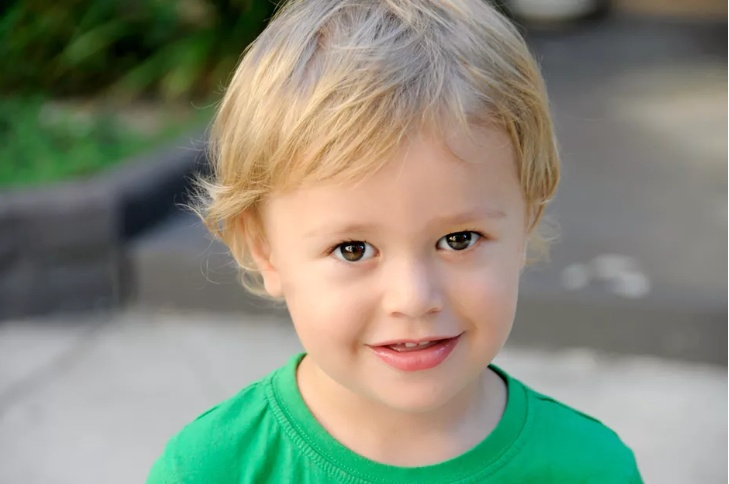face: (281, 121, 513, 412)
